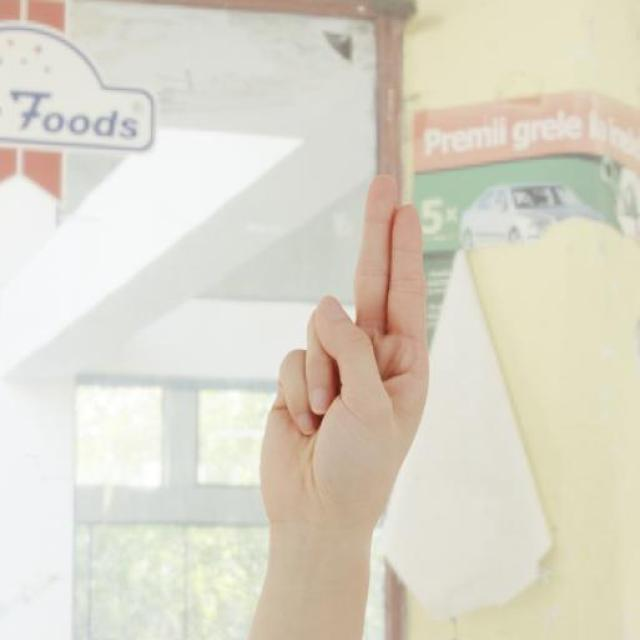U: (258, 171, 437, 539)
